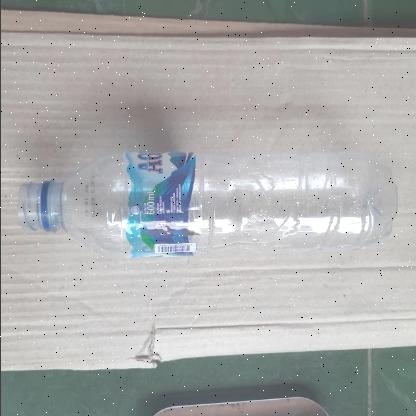Plastic Bottle: (21, 152, 395, 258)
